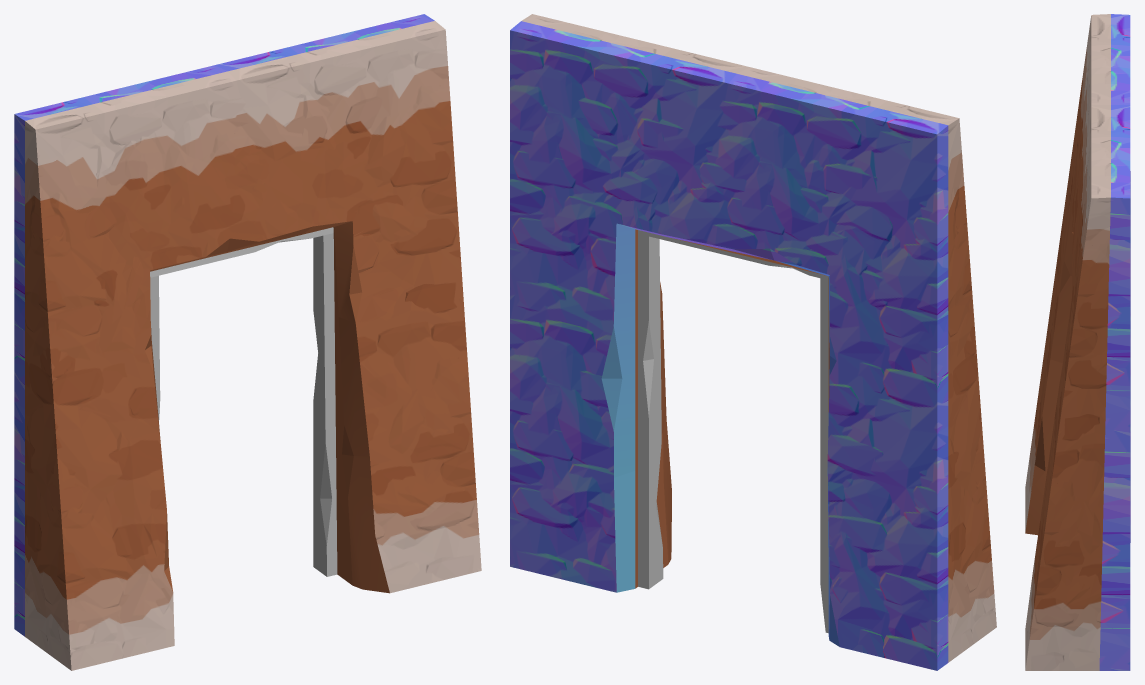
File: SM_Bld_Wall_Top_Door_01.fbx
3 renders of one model, left to right at view 1: azimuth 30°, elevation 25°; view 2: azimuth 150°, elevation 25°; view 3: azimuth 270°, elevation 25°, orthographic. The views are drawn at different scales.
Parts seen in each view (by area): view 1: SM_Bld_Wall_Top_Door_01; view 2: SM_Bld_Wall_Top_Door_01; view 3: SM_Bld_Wall_Top_Door_01.
Part boxes in pixels (left/top/right/bottom): SM_Bld_Wall_Top_Door_01: left=14, top=14, right=481, bottom=670; SM_Bld_Wall_Top_Door_01: left=510, top=14, right=996, bottom=670; SM_Bld_Wall_Top_Door_01: left=1025, top=14, right=1130, bottom=670.
Bounding box in the file's own units: 250 × 301 × 60.73.
